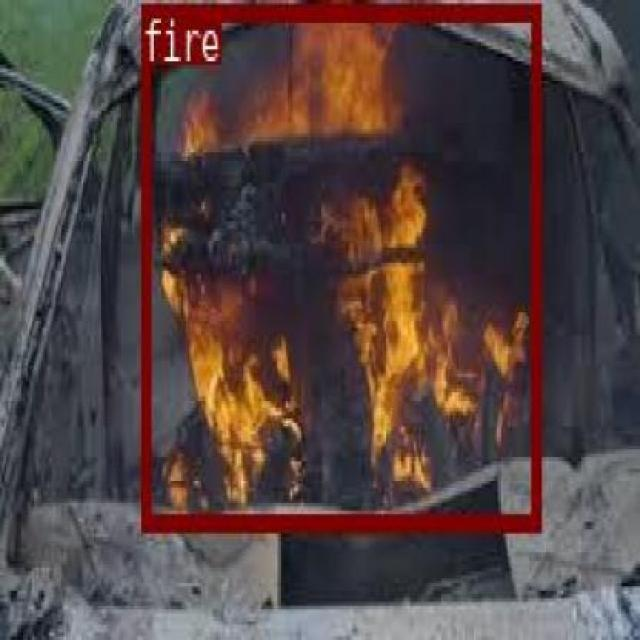Fire: (138, 0, 538, 528)
